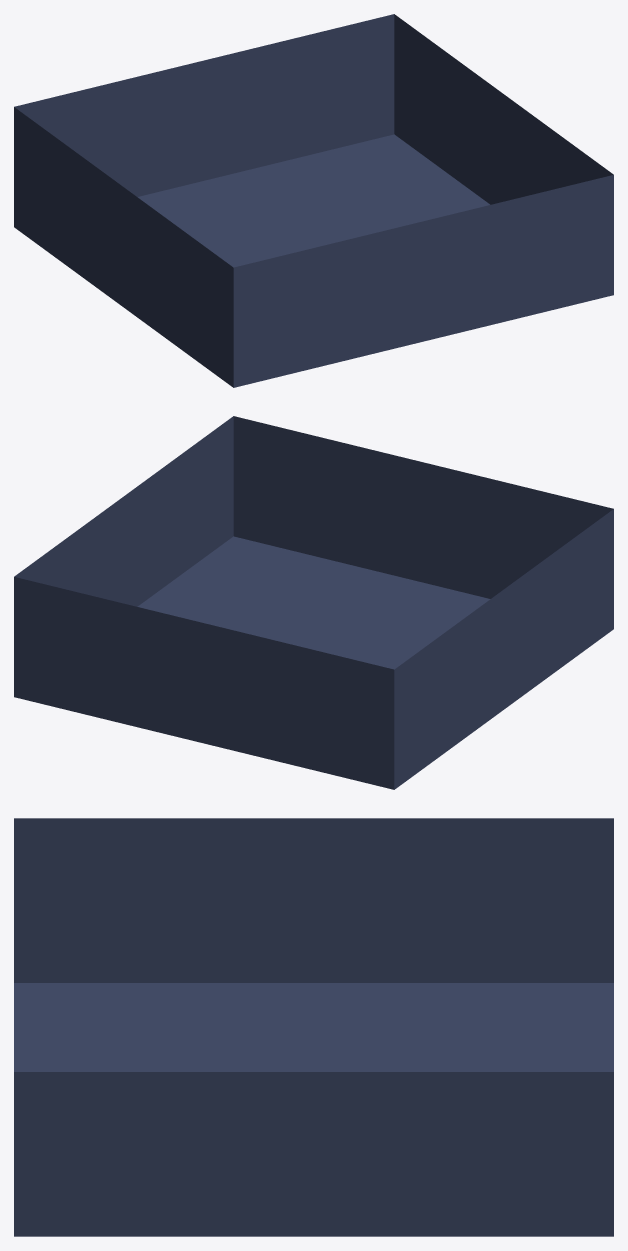
Rendered from room.glb.
3 renders of one model, top to bottom at view 1: azimuth 30°, elevation 25°; view 2: azimuth 150°, elevation 25°; view 3: azimuth 270°, elevation 25°, orthographic. The views are drawn at different scales.
Visible parts, largest first — view 1: renderplane; view 2: renderplane; view 3: renderplane.
Boxes of the visible parts, bbox=[...] form: renderplane: bbox=[14, 14, 613, 387]; renderplane: bbox=[14, 416, 613, 789]; renderplane: bbox=[14, 818, 613, 1236].
Size of the model in its own units: 140 by 42.43 by 140.
